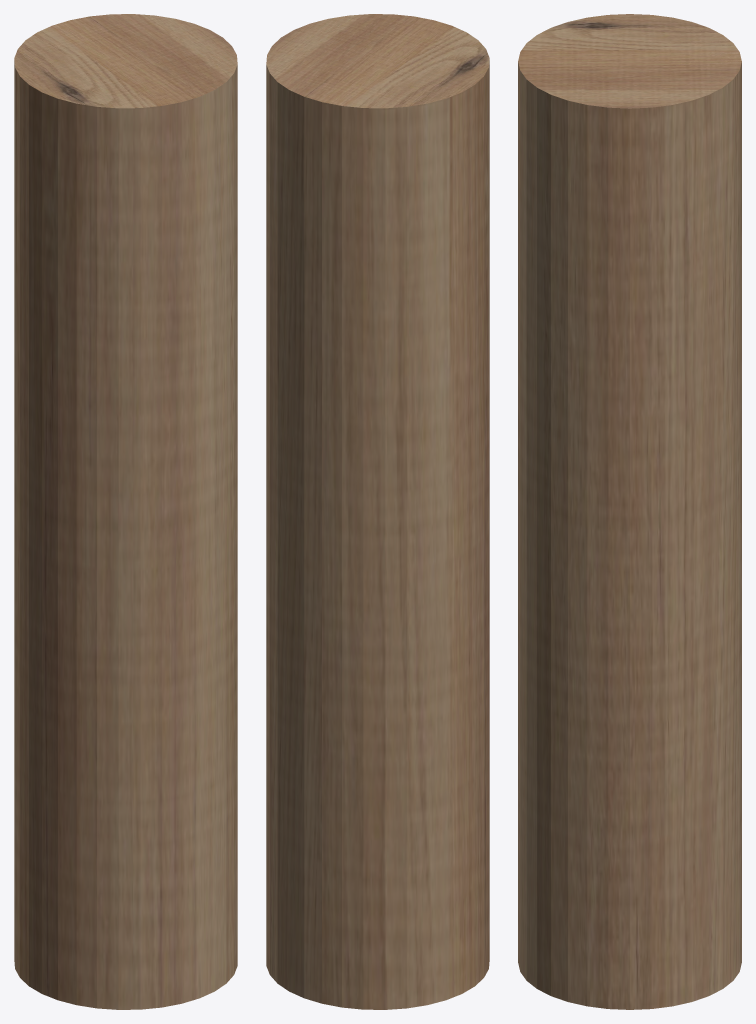
The model's file is col_1.obj.
3 views of the same model, side by side, from view 1: azimuth 30°, elevation 25°; view 2: azimuth 150°, elevation 25°; view 3: azimuth 270°, elevation 25° (orthographic).
Visible parts, largest first — view 1: col_3; view 2: col_3; view 3: col_3.
Boxes of the visible parts, x1,y1,x2,y2 form: col_3: (14, 14, 237, 1009); col_3: (266, 14, 489, 1009); col_3: (518, 14, 741, 1009).
Bounding box in the file's own units: 0.45 × 2 × 0.45.
